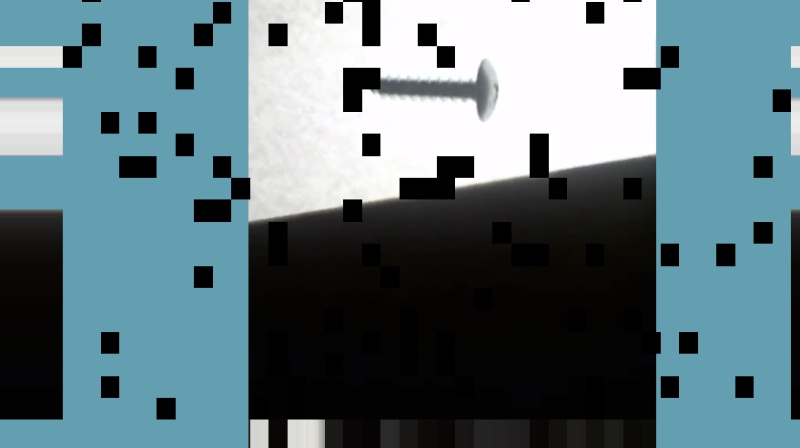S003: (363, 53, 504, 125)
